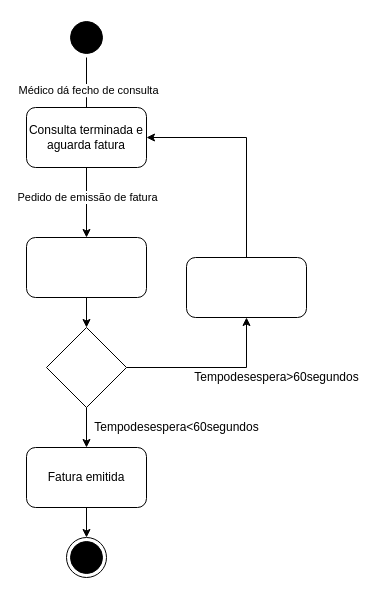
The diagram is 384 pixels wide and 595 high, and some of its shapes have lost their labels. The centre of each missing label's shape, as x and y in pixels:
"Aguarda emissão da fatura" goes at [86,267].
"emissão falhada" goes at [246,287].
